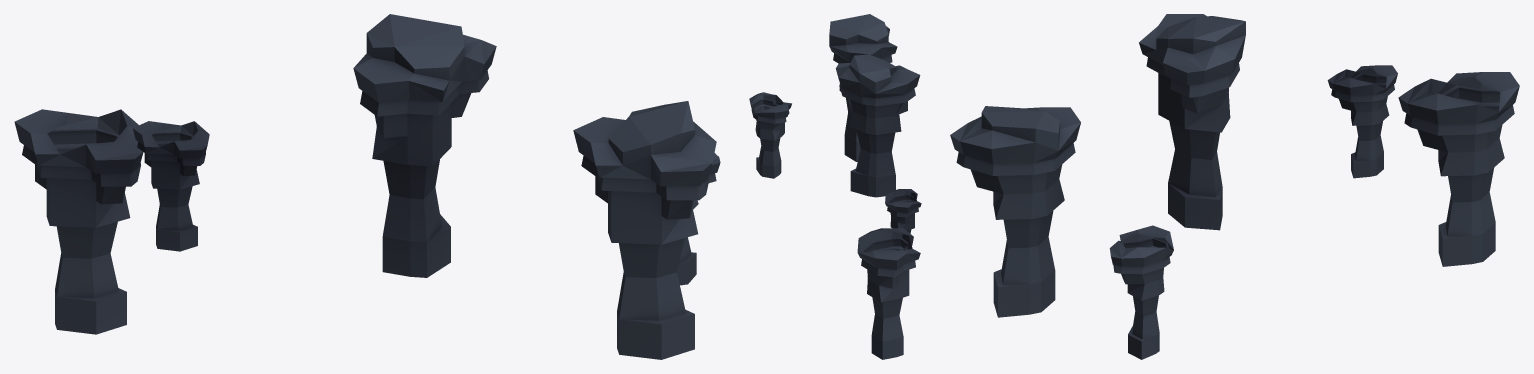
Rendered from Stone_02.FBX.
3 views of the same model, side by side, from view 1: azimuth 30°, elevation 25°; view 2: azimuth 150°, elevation 25°; view 3: azimuth 270°, elevation 25° (orthographic). The views are drawn at different scales.
Parts seen in each view (by area): view 1: Stone_02; view 2: Stone_02; view 3: Stone_02.
Part boxes in pixels (bbox=[...]): Stone_02: bbox=[14, 14, 720, 359]; Stone_02: bbox=[749, 14, 921, 359]; Stone_02: bbox=[950, 14, 1519, 359].
Bounding box in the file's own units: 28.61 × 20.08 × 33.76.
